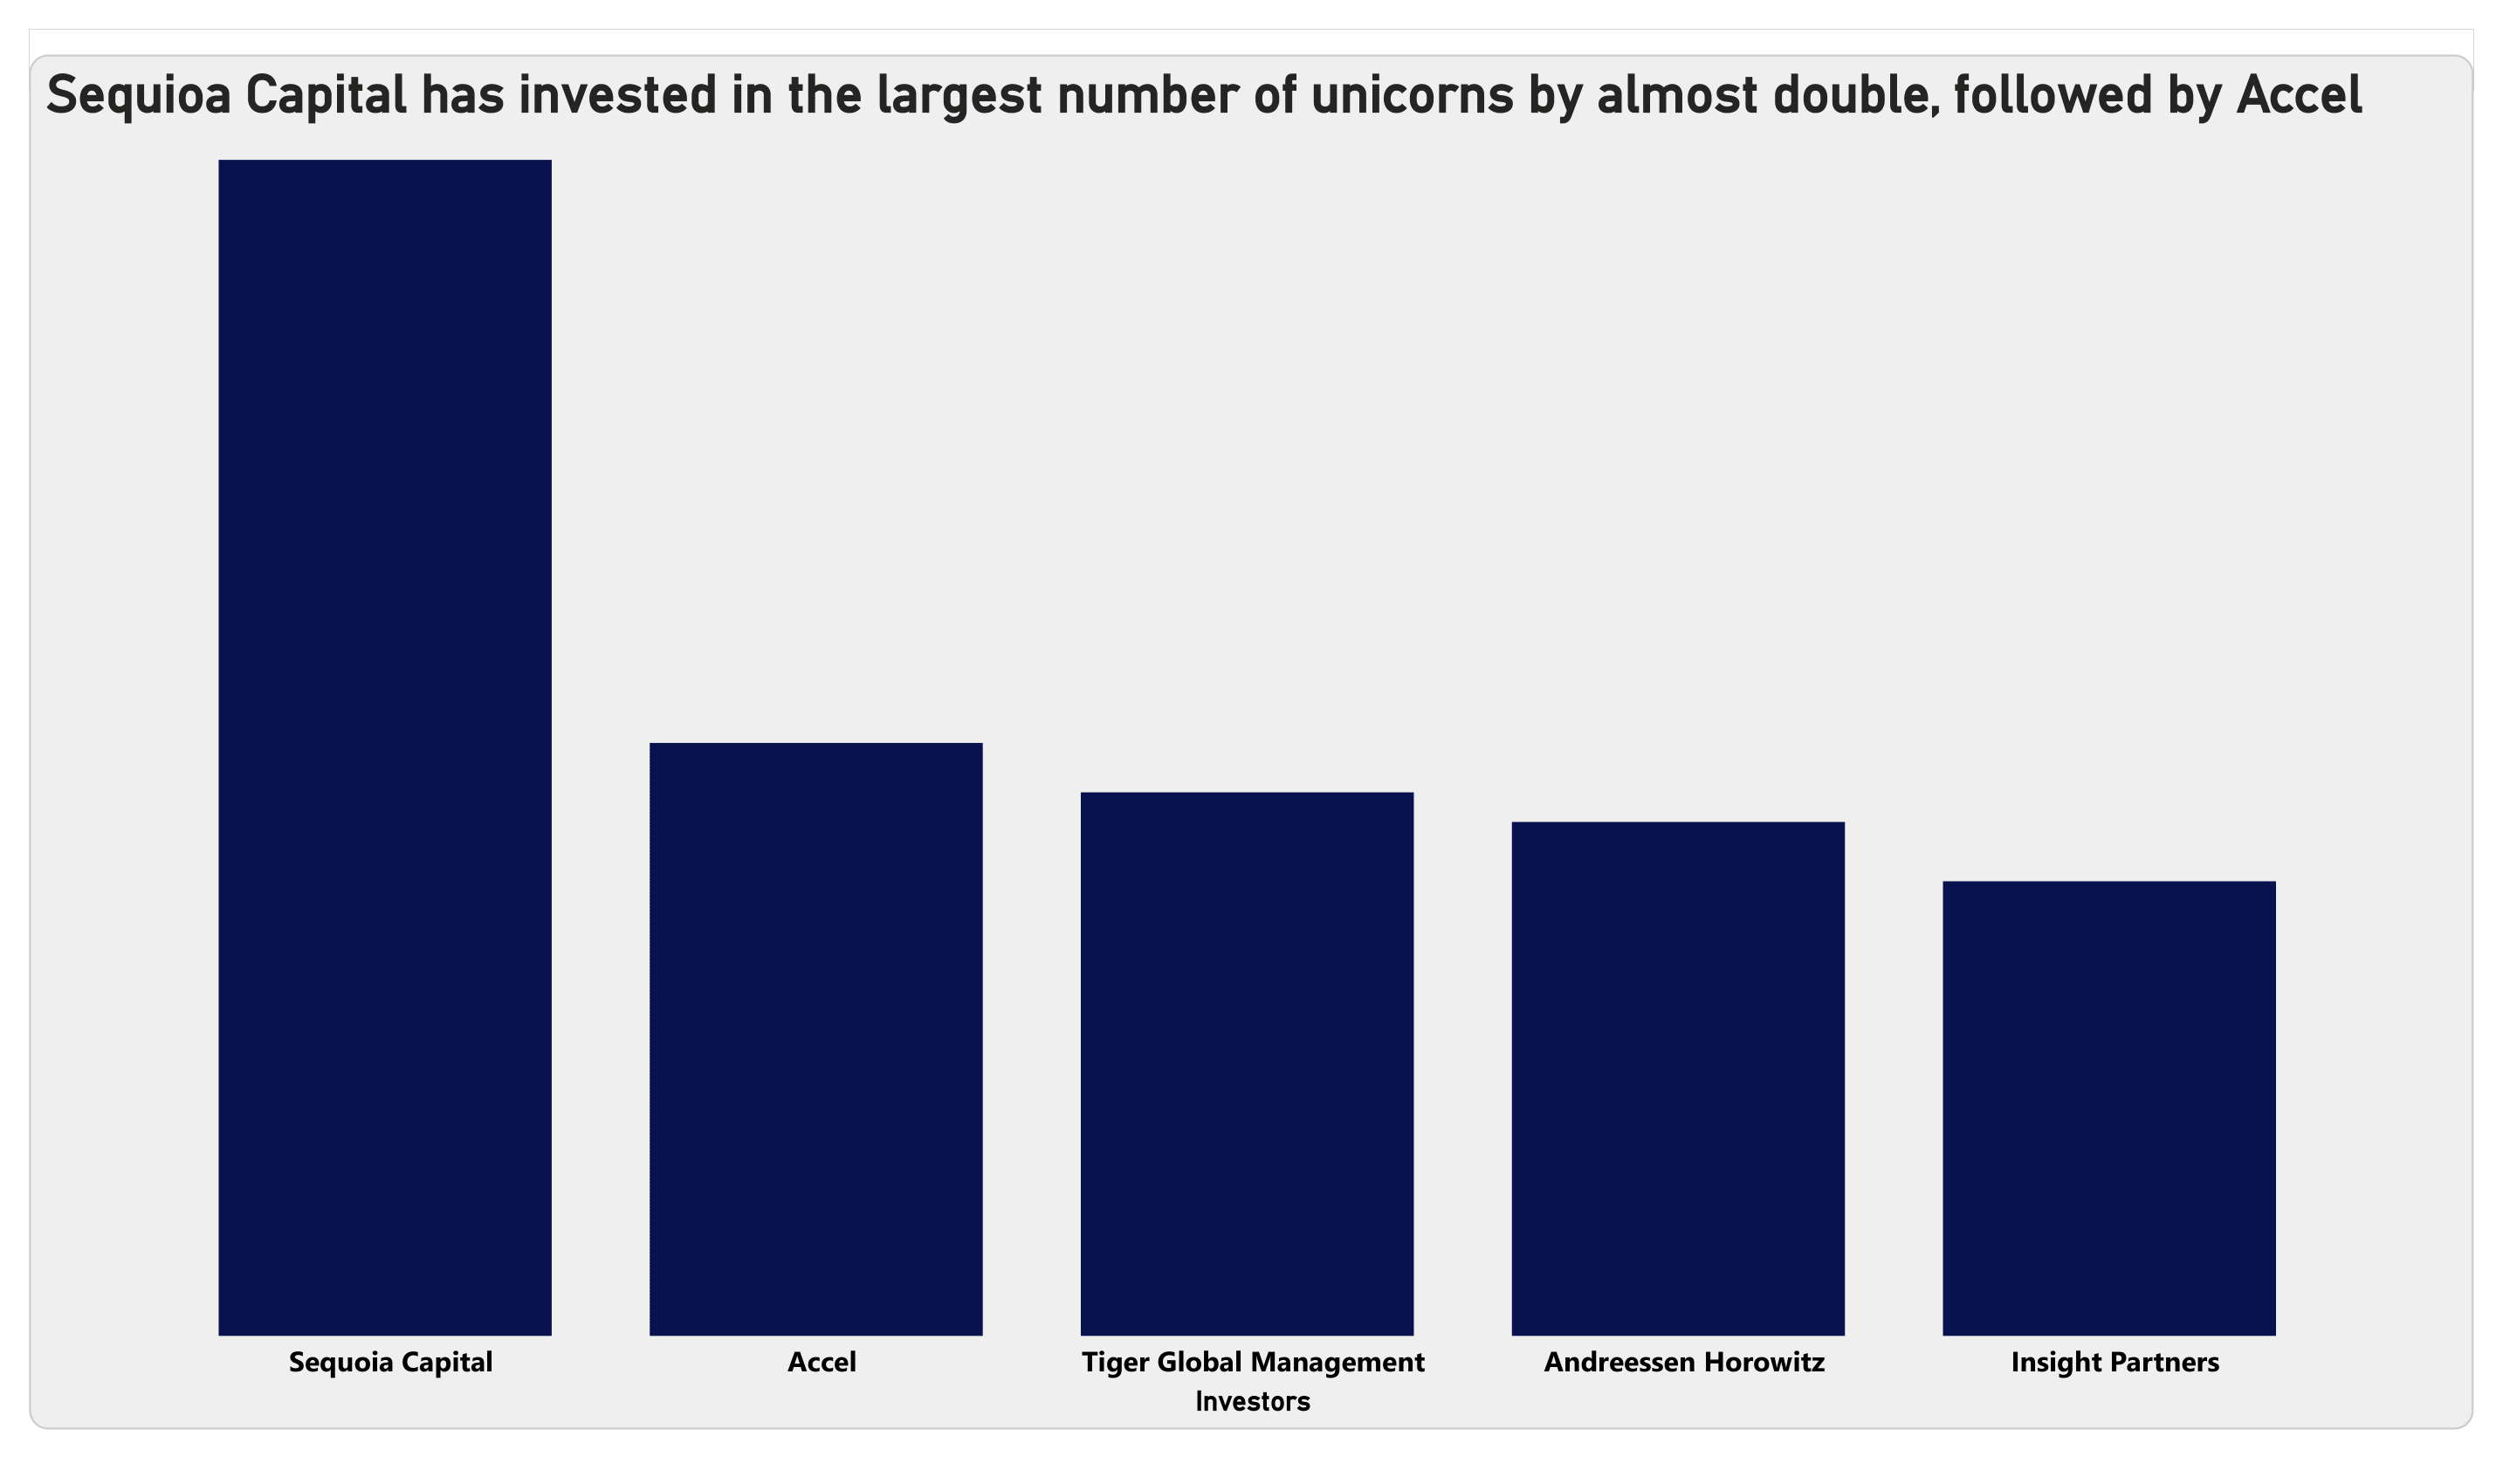

The page's visual inventory and layout, read from the dashboard file:
{"tool":"powerbi","page":{"name":"Page 4","canvas":[1280,720],"ordinal":3},"visuals":[{"type":"columnChart","title":"Sequioa Capital has invested in the largest number of unicorns by almost double, followed by Accel","fields":{"Category":["Unicorn_Companies.Investors"],"Y":["Count(Unicorn_Companies.Company)"]},"box":[0,0,1280.2,720],"z":0}]}

Visuals, with their boxes on the page's 1280x720 design canvas (x1, y1, x2, y2). These are canvas units, not pixel positions in the 2503x1484 screenshot, which may show the page scaled, cropped or inside an application window:
"Sequioa Capital has invested in the largest number of unicorns by almost double, followed by Accel" columnChart: box(0, 0, 1280, 720)
